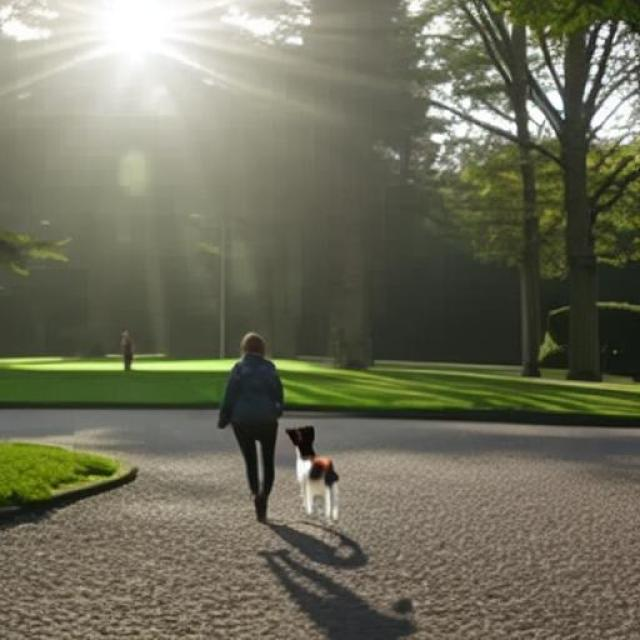Unleashed_Dog: (238, 413, 340, 522)
